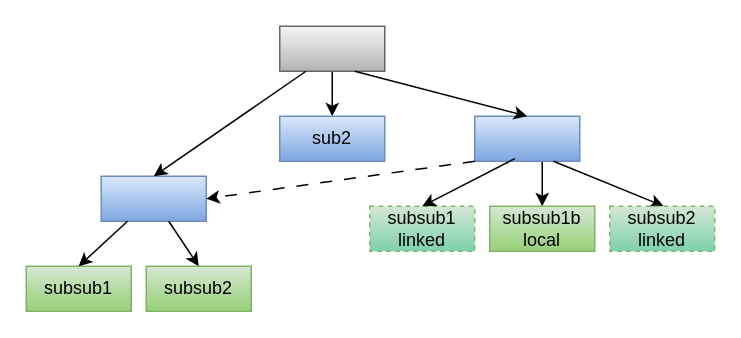
Image size: 741x338. Some labels were removed from this diagram. Each missing label, with the box of its shape:
root: (278, 25, 385, 71)
sub1: (100, 175, 206, 221)
sub3 with iLink: (473, 115, 580, 161)
